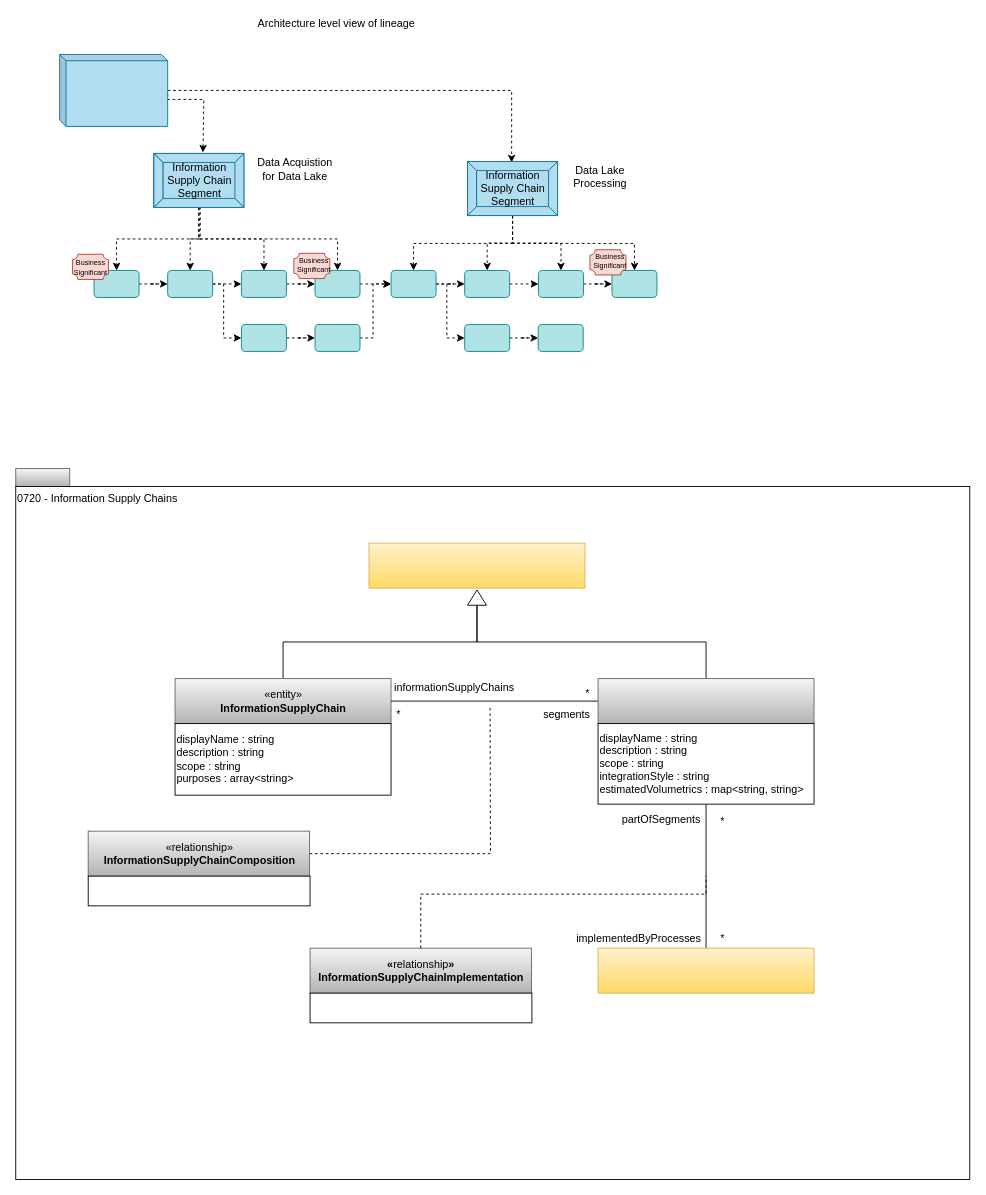
The diagram is 986 pixels wide and 1195 high, and some of its shapes have lost their labels. Each missing label, with the centre of its shape:
"Information Supply Chain" goes at (113,90).
"«entity» InformationSupplyChainSegment" goes at (705,701).
"«entity» Process" goes at (705,970).
"«entity» Referenceable" goes at (476,565).
